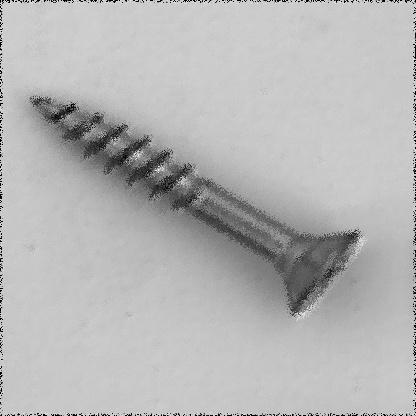metal: (27, 95, 366, 323)
